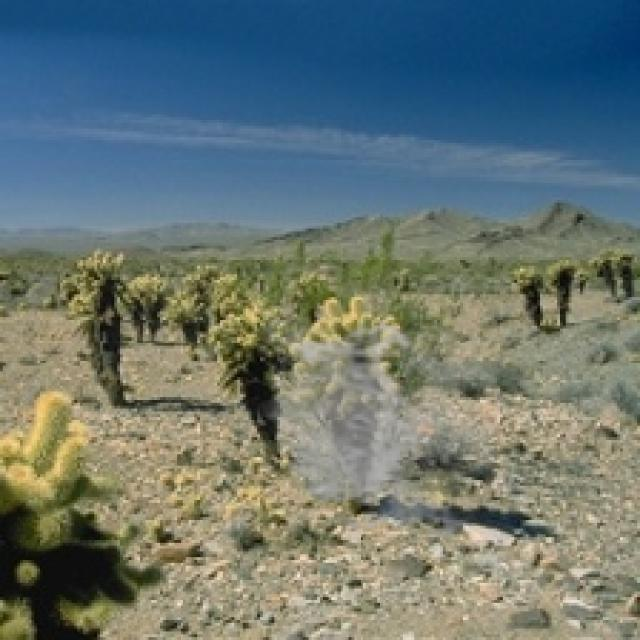smoke: (257, 317, 497, 546)
